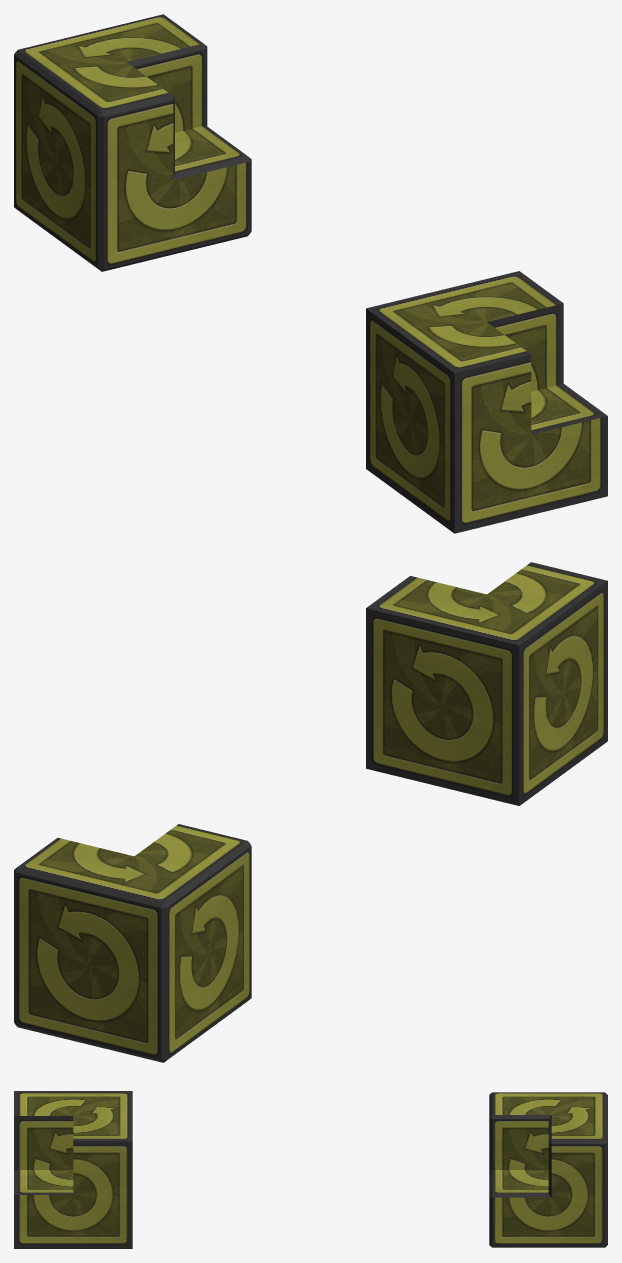
Rendered from step2.insideCorner.fbx.
The picture shows the model from 3 angles, top to bottom: view 1: azimuth 30°, elevation 25°; view 2: azimuth 150°, elevation 25°; view 3: azimuth 270°, elevation 25°; orthographic projection. The views are drawn at different scales.
Visible parts, largest first — view 1: MESH step2.insideCorner, MESH step2.insideCorner.c; view 2: MESH step2.insideCorner, MESH step2.insideCorner.c; view 3: MESH step2.insideCorner, MESH step2.insideCorner.c.
Boxes of the visible parts, x1,y1,x2,y2 form: MESH step2.insideCorner: (366, 271, 607, 533); MESH step2.insideCorner.c: (14, 14, 251, 271); MESH step2.insideCorner: (366, 562, 607, 805); MESH step2.insideCorner.c: (14, 824, 251, 1062); MESH step2.insideCorner: (14, 1091, 132, 1248); MESH step2.insideCorner.c: (489, 1092, 607, 1247).
Size of what is drawn, in the model's own units: 100 by 100 by 500.
